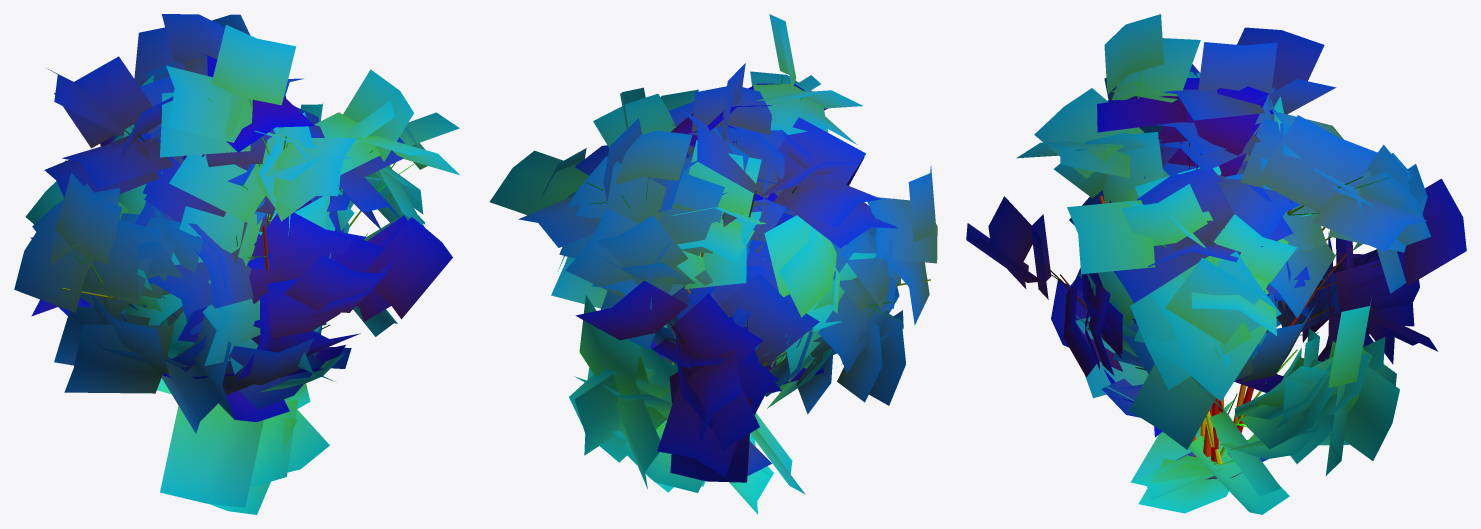
File: SM_Bush_Hazel_B_LOD1.fbx
3 renders of one model, left to right at view 1: azimuth 30°, elevation 25°; view 2: azimuth 150°, elevation 25°; view 3: azimuth 270°, elevation 25°, orthographic. The views are drawn at different scales.
Parts seen in each view (by area): view 1: SM_Bush_Hazel_B_LOD1; view 2: SM_Bush_Hazel_B_LOD1; view 3: SM_Bush_Hazel_B_LOD1.
Boxes of the visible parts, x1,y1,x2,y2 form: SM_Bush_Hazel_B_LOD1: [14, 14, 459, 514]; SM_Bush_Hazel_B_LOD1: [489, 14, 937, 514]; SM_Bush_Hazel_B_LOD1: [966, 14, 1466, 514].
Bounding box in the file's own units: 2.73 × 3.01 × 2.77.
